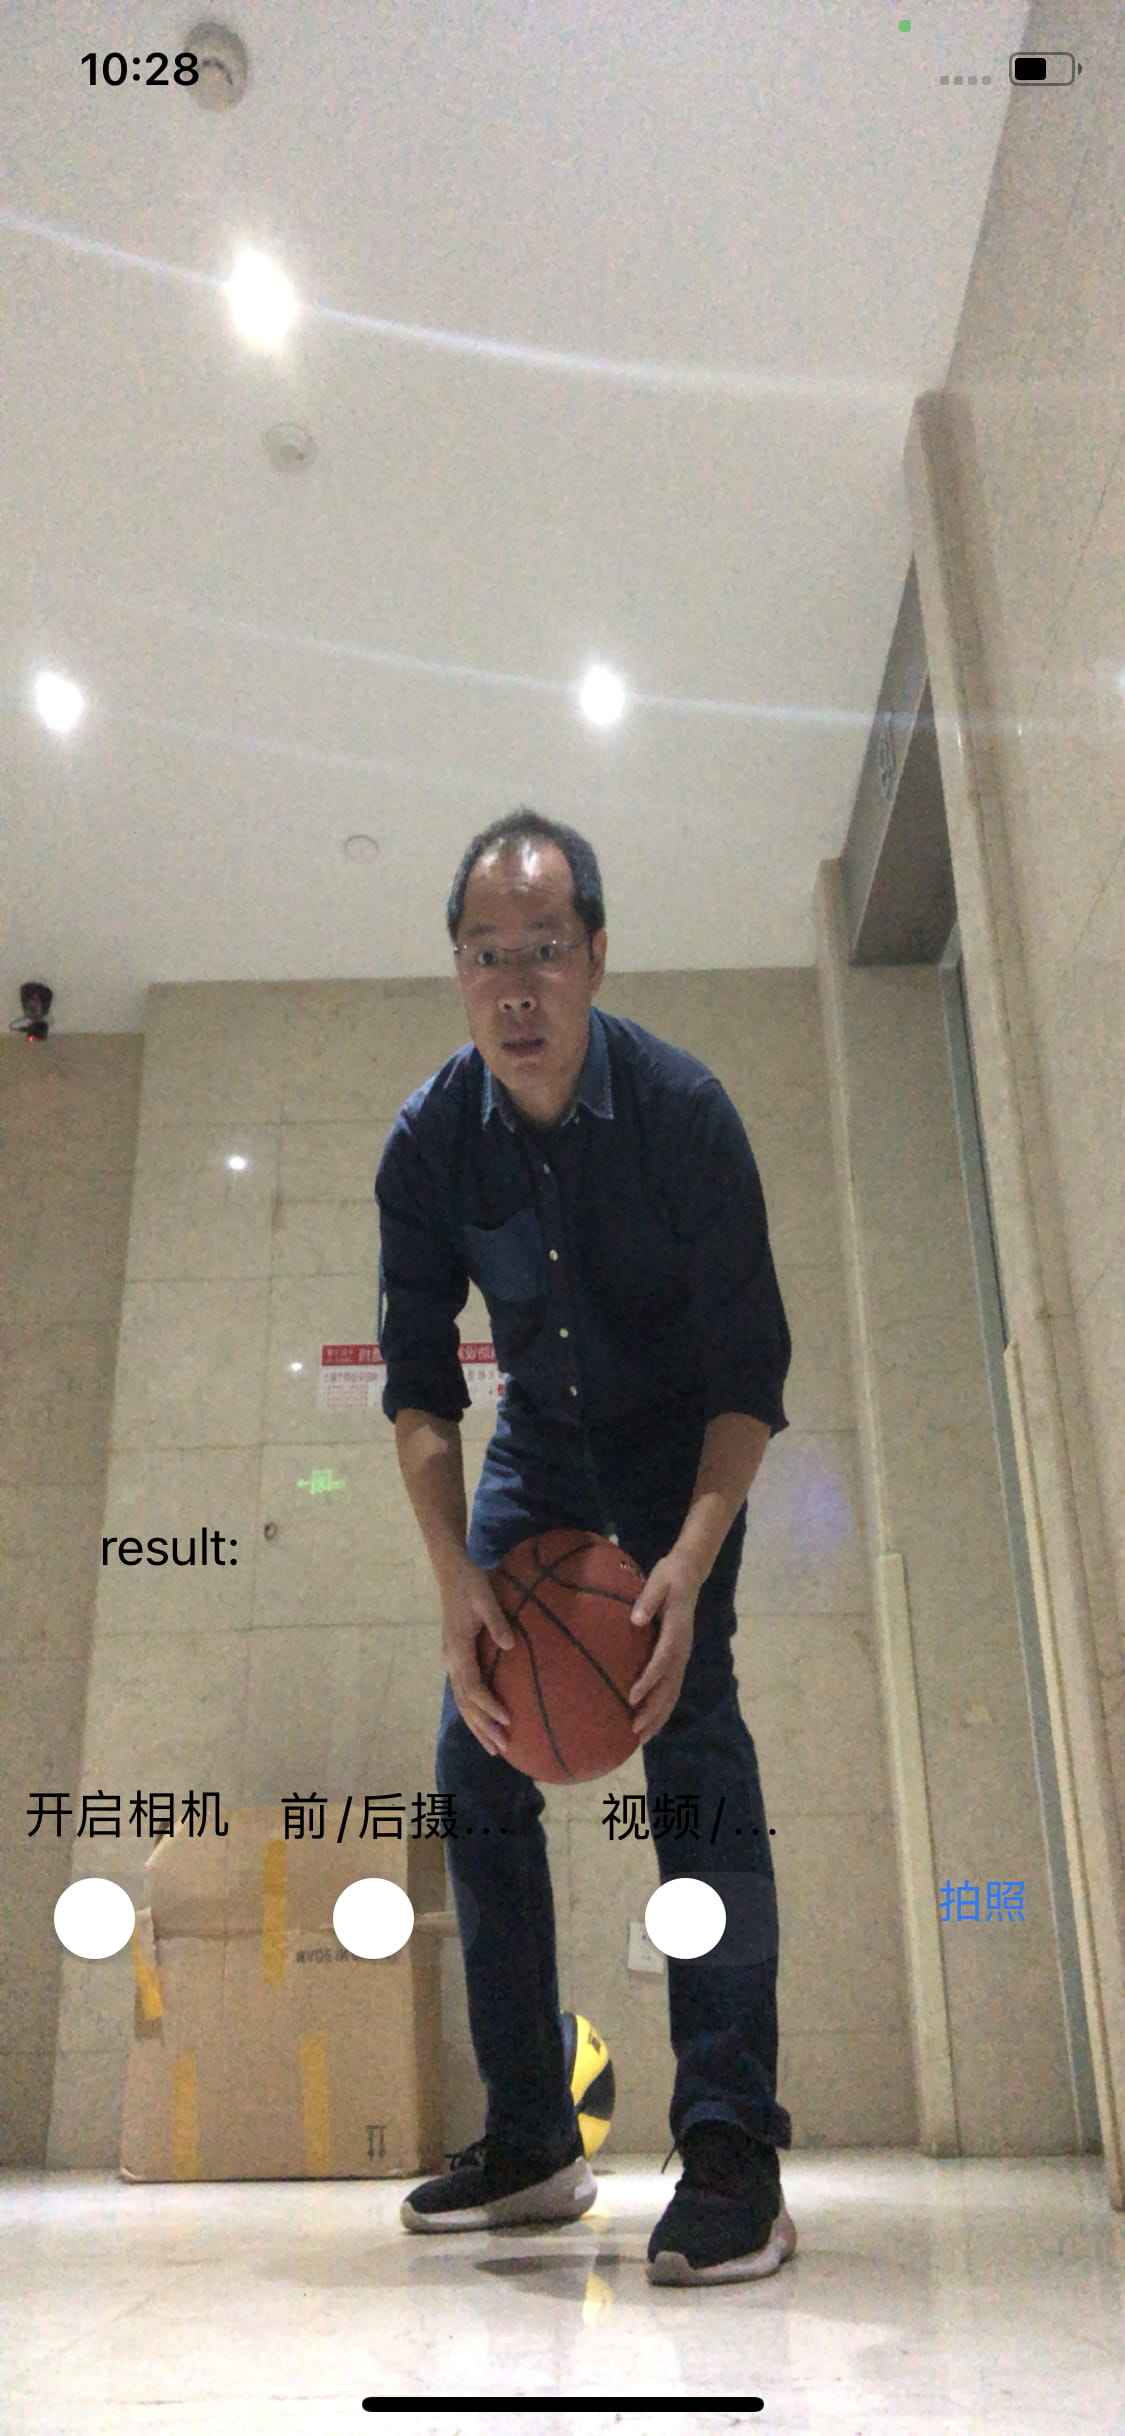ball: (468, 1529, 659, 1783)
